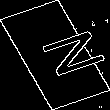N_SW: (14, 27, 96, 83)
